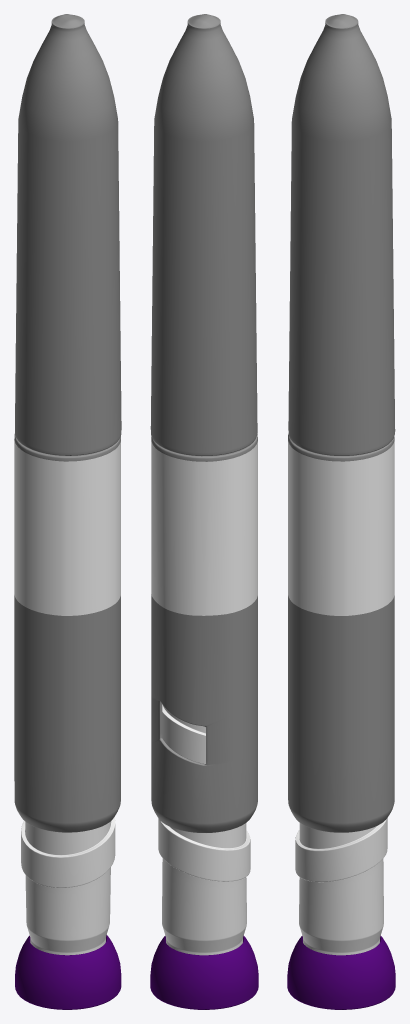
File: monjarou.glb
The picture shows the model from 3 angles, left to right: view 1: azimuth 30°, elevation 25°; view 2: azimuth 150°, elevation 25°; view 3: azimuth 330°, elevation 25°; orthographic projection.
Visible parts, largest first — view 1: pCylinder1, polySurface5, polySurface4, polySurface6, polySurface1; view 2: pCylinder1, polySurface5, polySurface4, polySurface6, polySurface1; view 3: pCylinder1, polySurface5, polySurface4, polySurface6, polySurface1.
Part boxes in pixels (x1,y1,x2,y2): pCylinder1: (15,14,121,455); polySurface5: (14,434,120,832); polySurface4: (14,440,120,615); polySurface6: (21,817,115,955); polySurface1: (15,935,121,1009); pCylinder1: (150,14,257,456); polySurface5: (151,434,257,832); polySurface4: (151,441,257,615); polySurface6: (158,704,250,955); polySurface1: (150,935,258,1009); pCylinder1: (288,14,395,455); polySurface5: (288,434,394,832); polySurface4: (288,441,394,615); polySurface6: (295,818,387,955); polySurface1: (287,935,395,1009).
Size of the model in its own units: 0.0232 by 0.231 by 0.0231.
